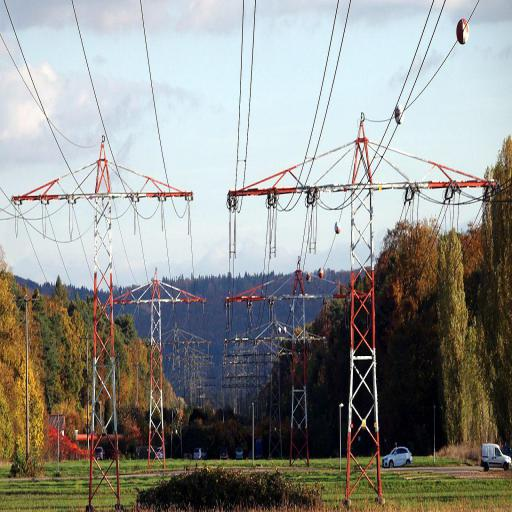ss_1: (226, 110, 501, 499), (11, 134, 197, 512), (220, 258, 373, 465), (104, 262, 206, 468), (223, 312, 328, 458), (139, 320, 214, 460)
